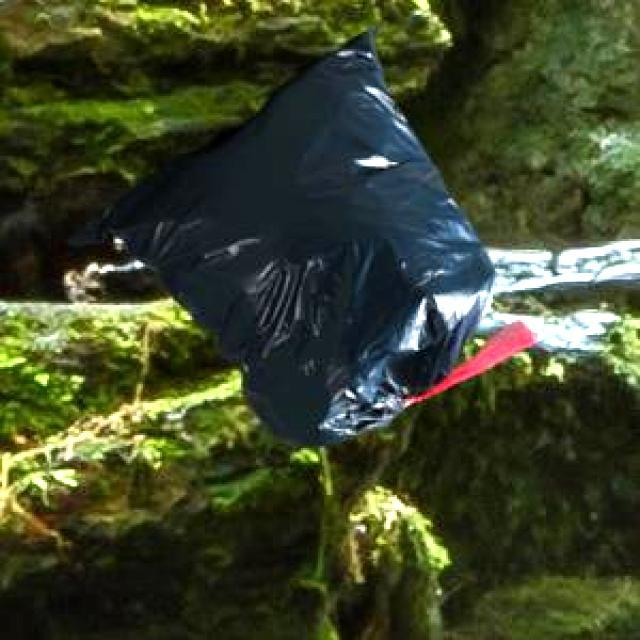Garbage_Bag: (70, 25, 532, 442)
